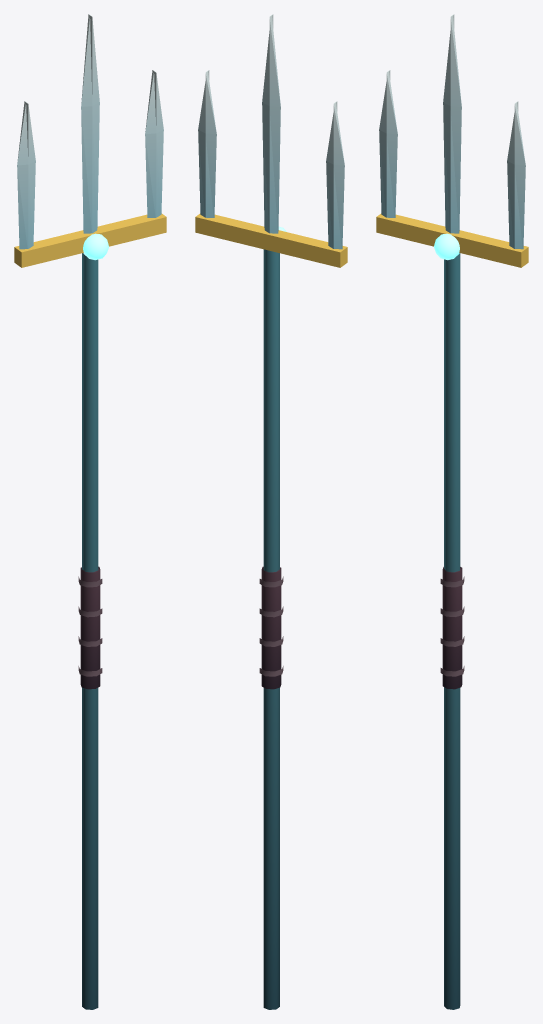
The model's file is trident.glb.
The picture shows the model from 3 angles, left to right: view 1: azimuth 30°, elevation 25°; view 2: azimuth 150°, elevation 25°; view 3: azimuth 330°, elevation 25°; orthographic projection.
Parts seen in each view (by area): view 1: trident; view 2: trident; view 3: trident.
Boxes of the visible parts, left/top/right/bottom form: trident: left=14, top=14, right=166, bottom=1009; trident: left=195, top=14, right=347, bottom=1009; trident: left=376, top=14, right=528, bottom=1009.
Size of the model in its own units: 0.344 by 2.22 by 0.073.
